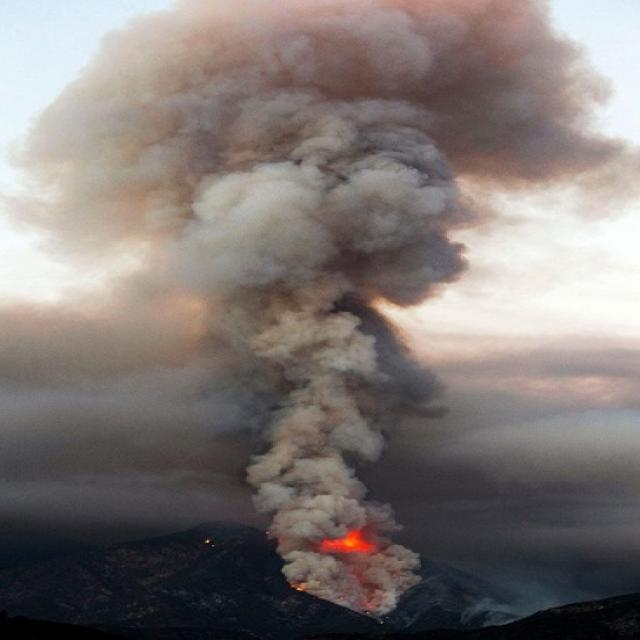Fire: (318, 529, 376, 552)
Smoke: (368, 543, 426, 621), (280, 549, 332, 583), (306, 582, 348, 606)
